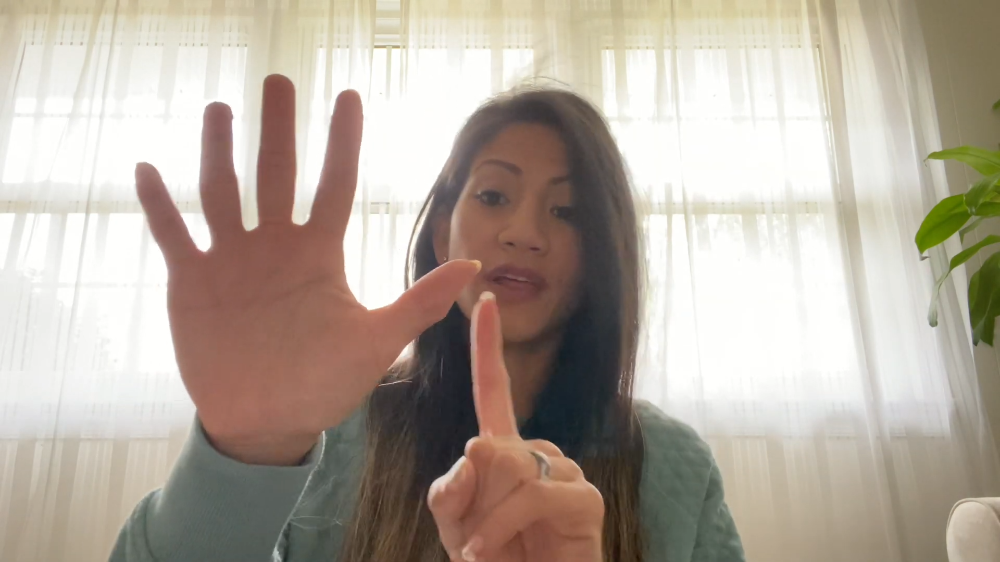hello: (135, 74, 477, 435)
